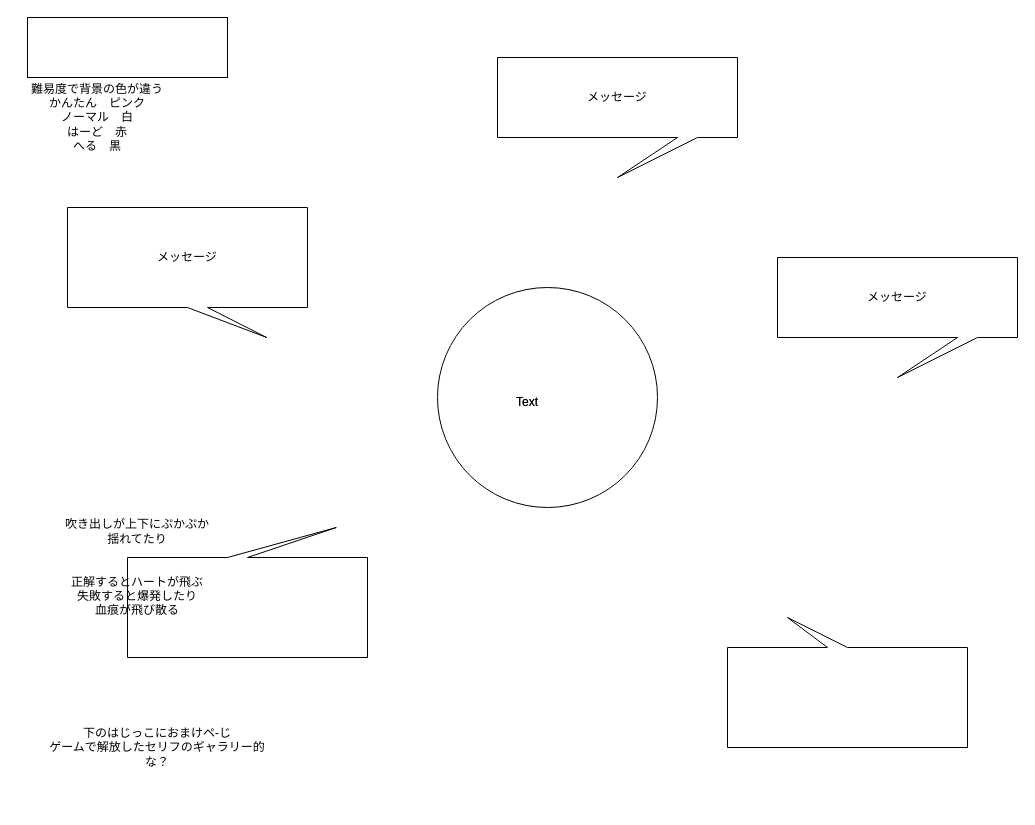
This 1035x825 diagram has some shape labels left out. The box of each missing label's shape, as (x1, y1, x2, y2) in pixels:
真ん中に地雷ちゃん 開眼 半目 閉じ目 瞬きアニメーション 表情差分 通常 怒り ハッピー 病み: (436, 286, 658, 508)
難易度表示: (26, 16, 228, 78)
